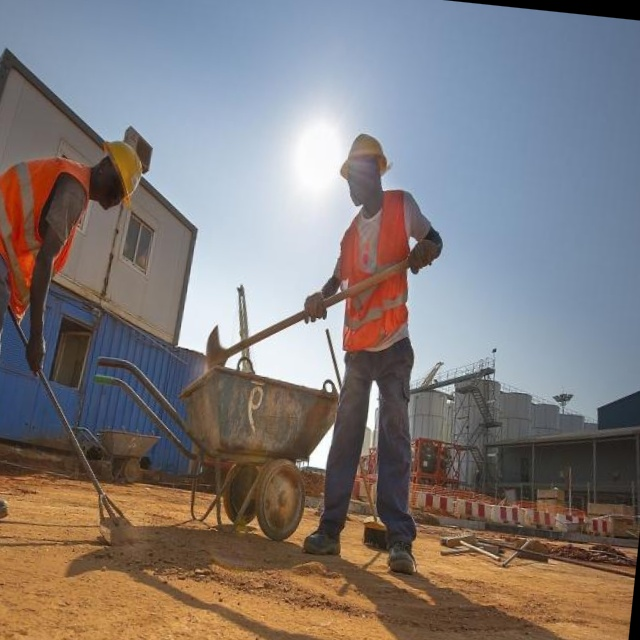Con_Casco: (336, 128, 394, 213), (95, 137, 146, 215)
Con_Chaleco: (0, 143, 96, 326), (334, 187, 421, 339)
